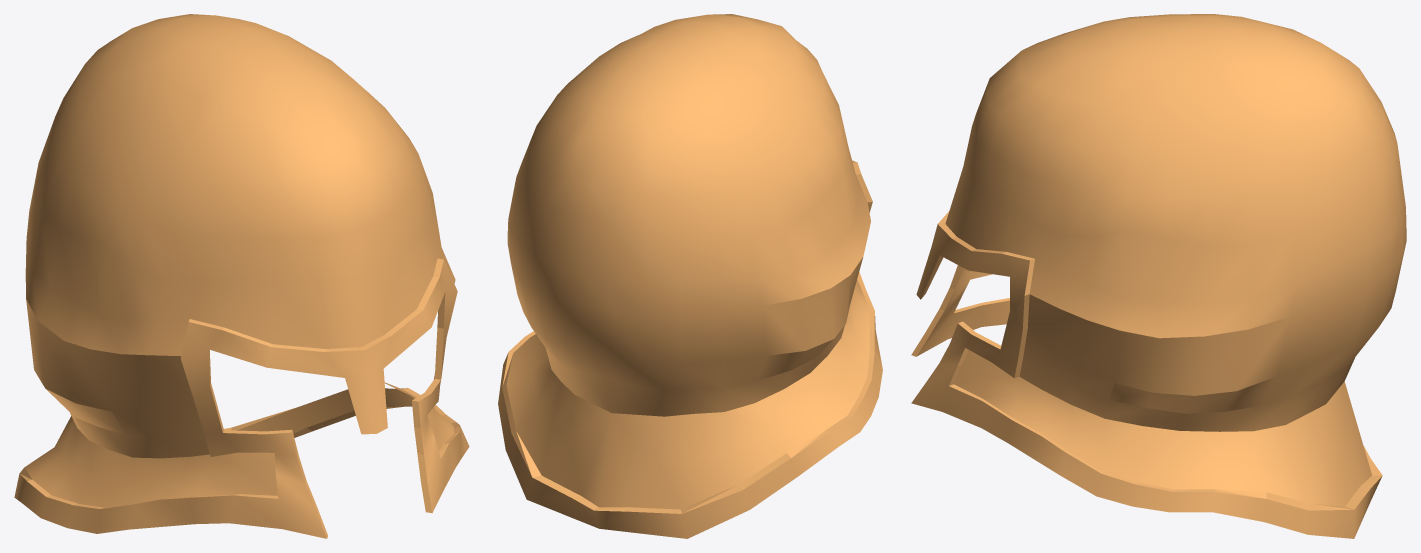
The model's file is helmet_bronze.glb.
3 renders of one model, left to right at view 1: azimuth 30°, elevation 25°; view 2: azimuth 150°, elevation 25°; view 3: azimuth 270°, elevation 25°, orthographic. The views are drawn at different scales.
Parts seen in each view (by area): view 1: Sphere001; view 2: Sphere001; view 3: Sphere001.
Boxes of the visible parts, left/top/right/bottom form: Sphere001: left=14, top=14, right=469, bottom=538; Sphere001: left=498, top=14, right=882, bottom=538; Sphere001: left=911, top=14, right=1406, bottom=538.
Bounding box in the file's own units: 0.2157 × 0.2578 × 0.2457.
